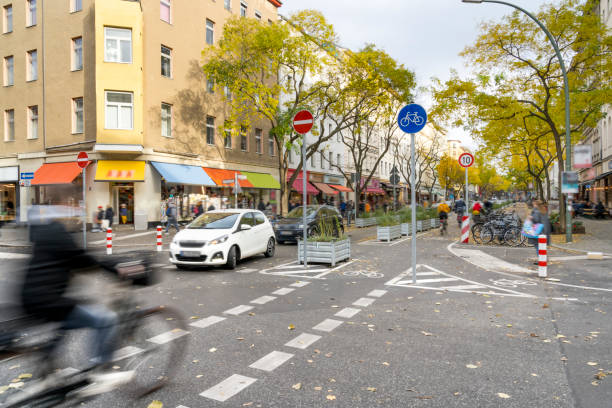Girilmez: (292, 110, 314, 134)
otomobil: (161, 195, 268, 278)
